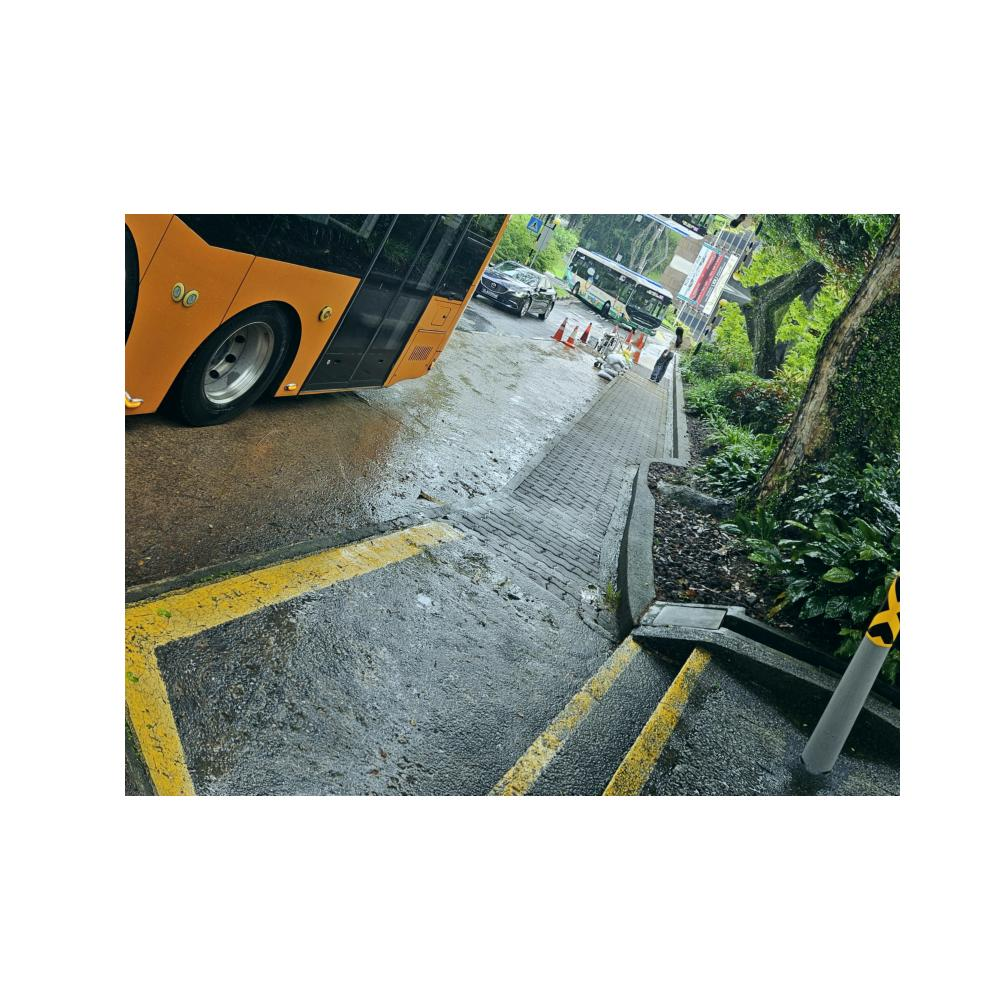bus: (127, 216, 506, 434), (562, 244, 673, 337)
